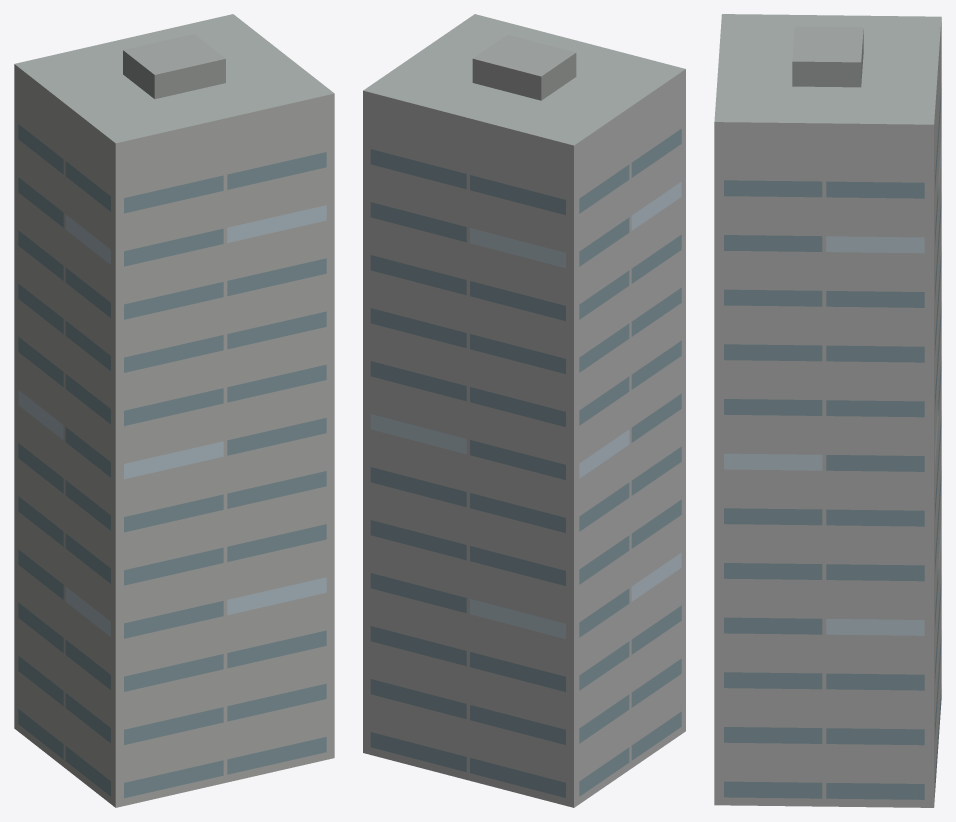
The model's file is fallback-sk-bukhansan-city-145.glb.
The picture shows the model from 3 angles, left to right: view 1: azimuth 30°, elevation 25°; view 2: azimuth 150°, elevation 25°; view 3: azimuth 270°, elevation 25°; orthographic projection. The views are drawn at different scales.
Parts seen in each view (by area): view 1: fallback-sk-bukhansan-city-145; view 2: fallback-sk-bukhansan-city-145; view 3: fallback-sk-bukhansan-city-145.
Boxes of the visible parts, bbox=[...] form: fallback-sk-bukhansan-city-145: bbox=[14, 14, 334, 807]; fallback-sk-bukhansan-city-145: bbox=[363, 14, 685, 807]; fallback-sk-bukhansan-city-145: bbox=[714, 14, 941, 807].
Size of the model in its own units: 22.84 by 68 by 19.8.
